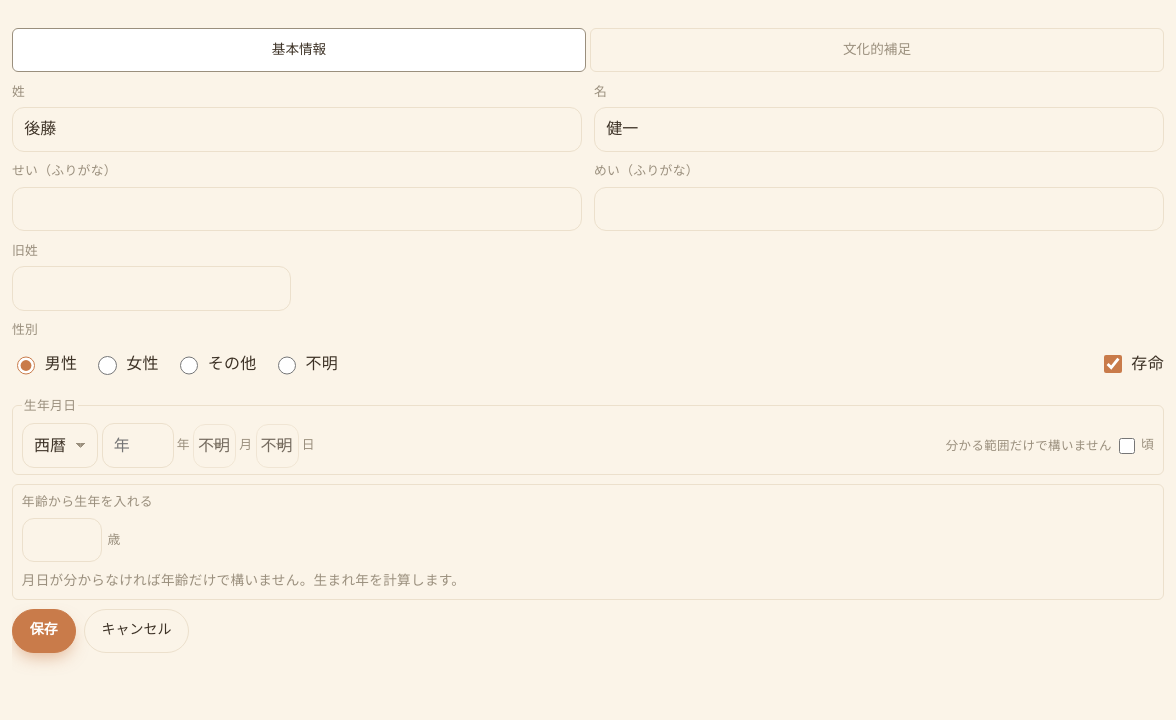
Test case: PersonForm › 性別はラジオで選ぶ
The image size is (1176, 720).
expect the radio button labelled "男性" is checked: met, box top-left (17, 356), bottom-right (35, 375)
Click the radio button labelled "女性".
click(108, 365)  # box top-left (98, 356), bottom-right (117, 375)
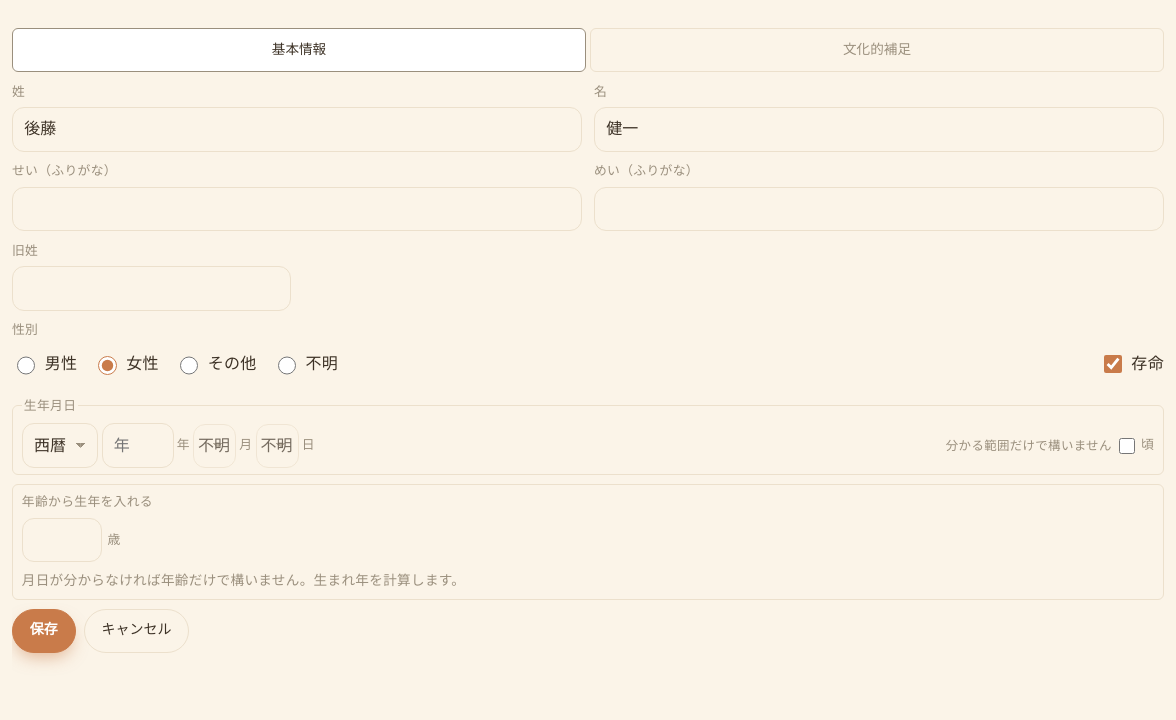
expect the radio button labelled "女性" is checked: met, box top-left (98, 356), bottom-right (117, 375)
expect the radio button labelled "男性" is not checked: met, box top-left (17, 356), bottom-right (35, 375)
